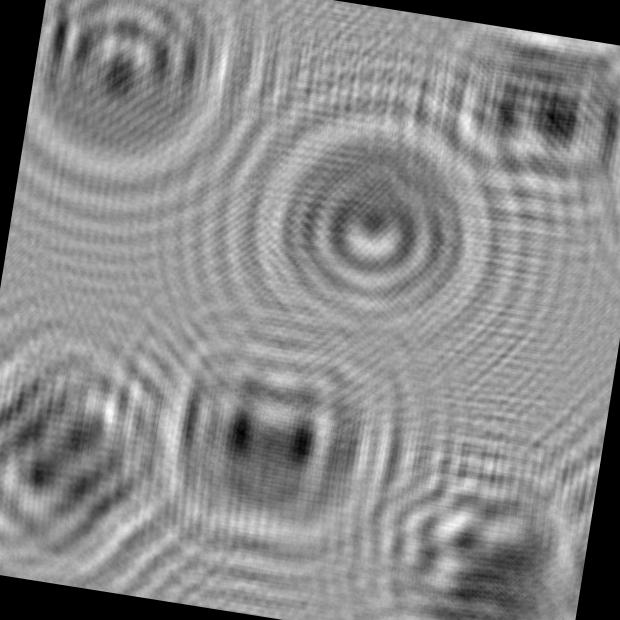C: (198, 54, 554, 394)
E: (99, 274, 475, 600)
F: (365, 10, 620, 259)
H: (0, 300, 232, 605)
K: (319, 380, 606, 620)
U: (15, 0, 288, 224)
